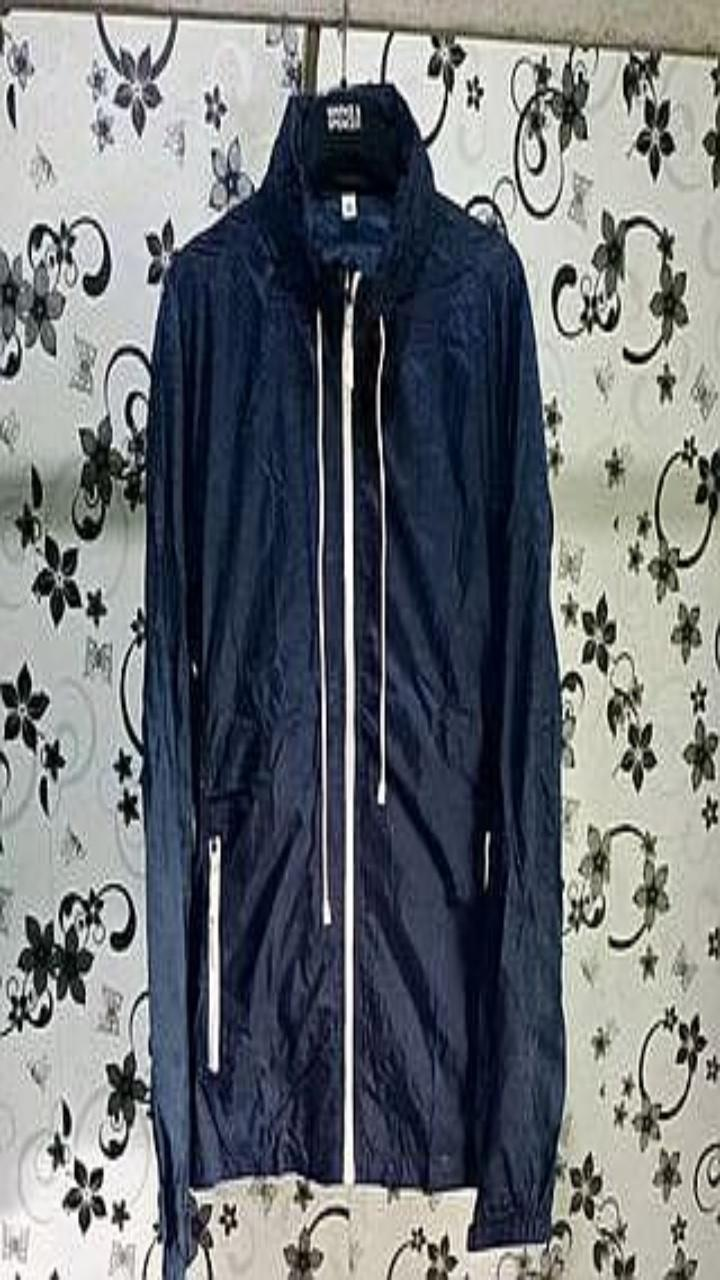Sports_Jacket: (141, 82, 565, 1279)
